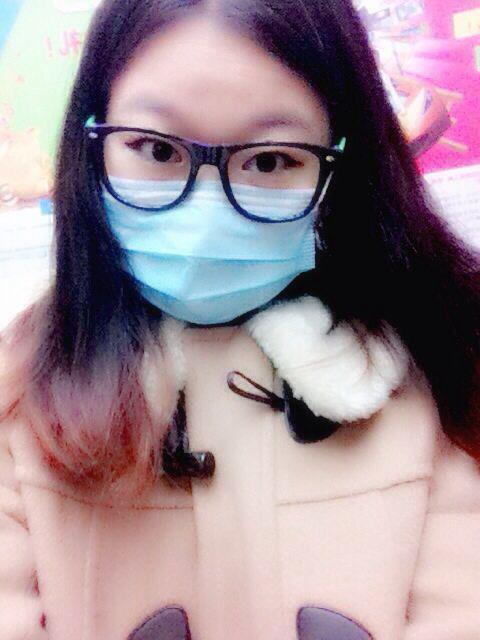OK: (101, 69, 325, 324)
